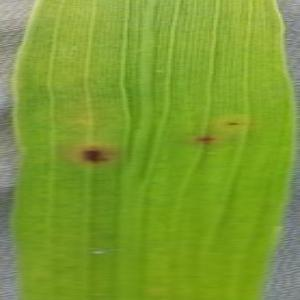Brown_Spot: (77, 138, 122, 175), (216, 111, 256, 135), (186, 129, 220, 151)
